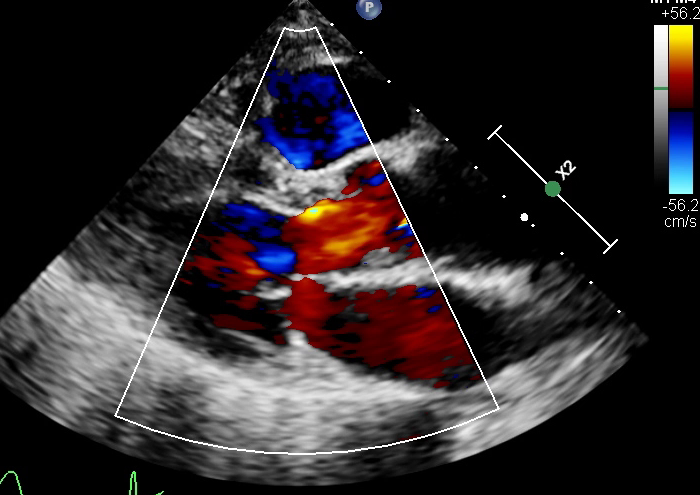AR: (269, 190, 379, 284)
